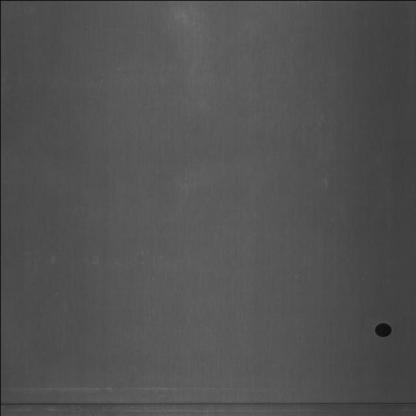punching_hole: (372, 319, 396, 343)
welding_line: (0, 388, 414, 414)
